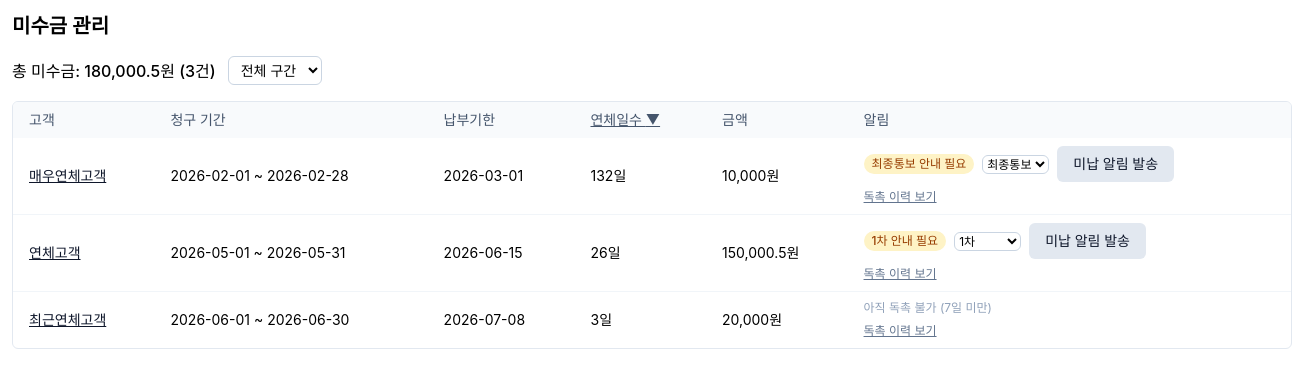
Test: OverdueInvoicesPage › shows the recommended-stage badge and sends that stage by default
Check: the link "연체고객" is shown, box left=29, top=244, right=80, bottom=261
Check: the text "1차 안내 필요" is shown, box left=864, top=231, right=946, bottom=251
Step 1. Click the button "미납 알림 발송" in the row of "1차" → (1088, 241), box left=1029, top=223, right=1146, bottom=259
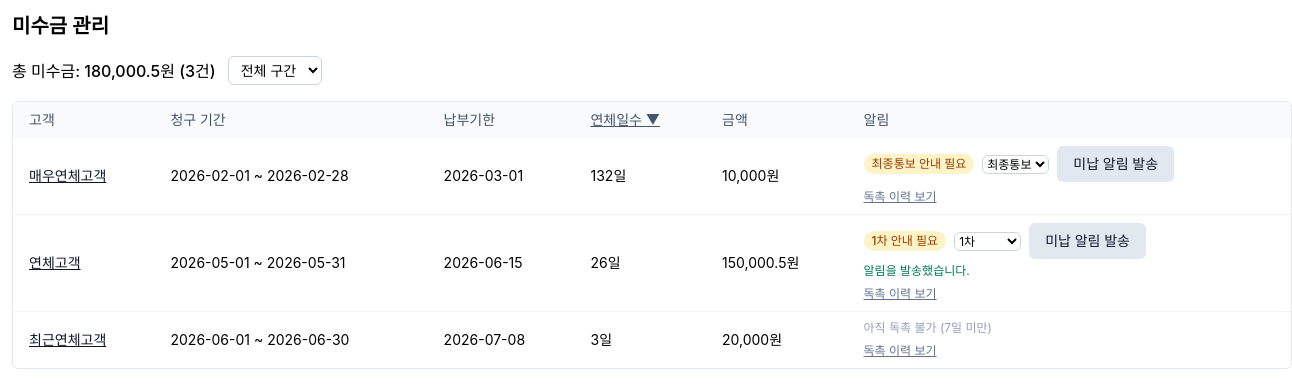
Check: the text "알림을 발송했습니다." is shown, box left=864, top=263, right=970, bottom=278
